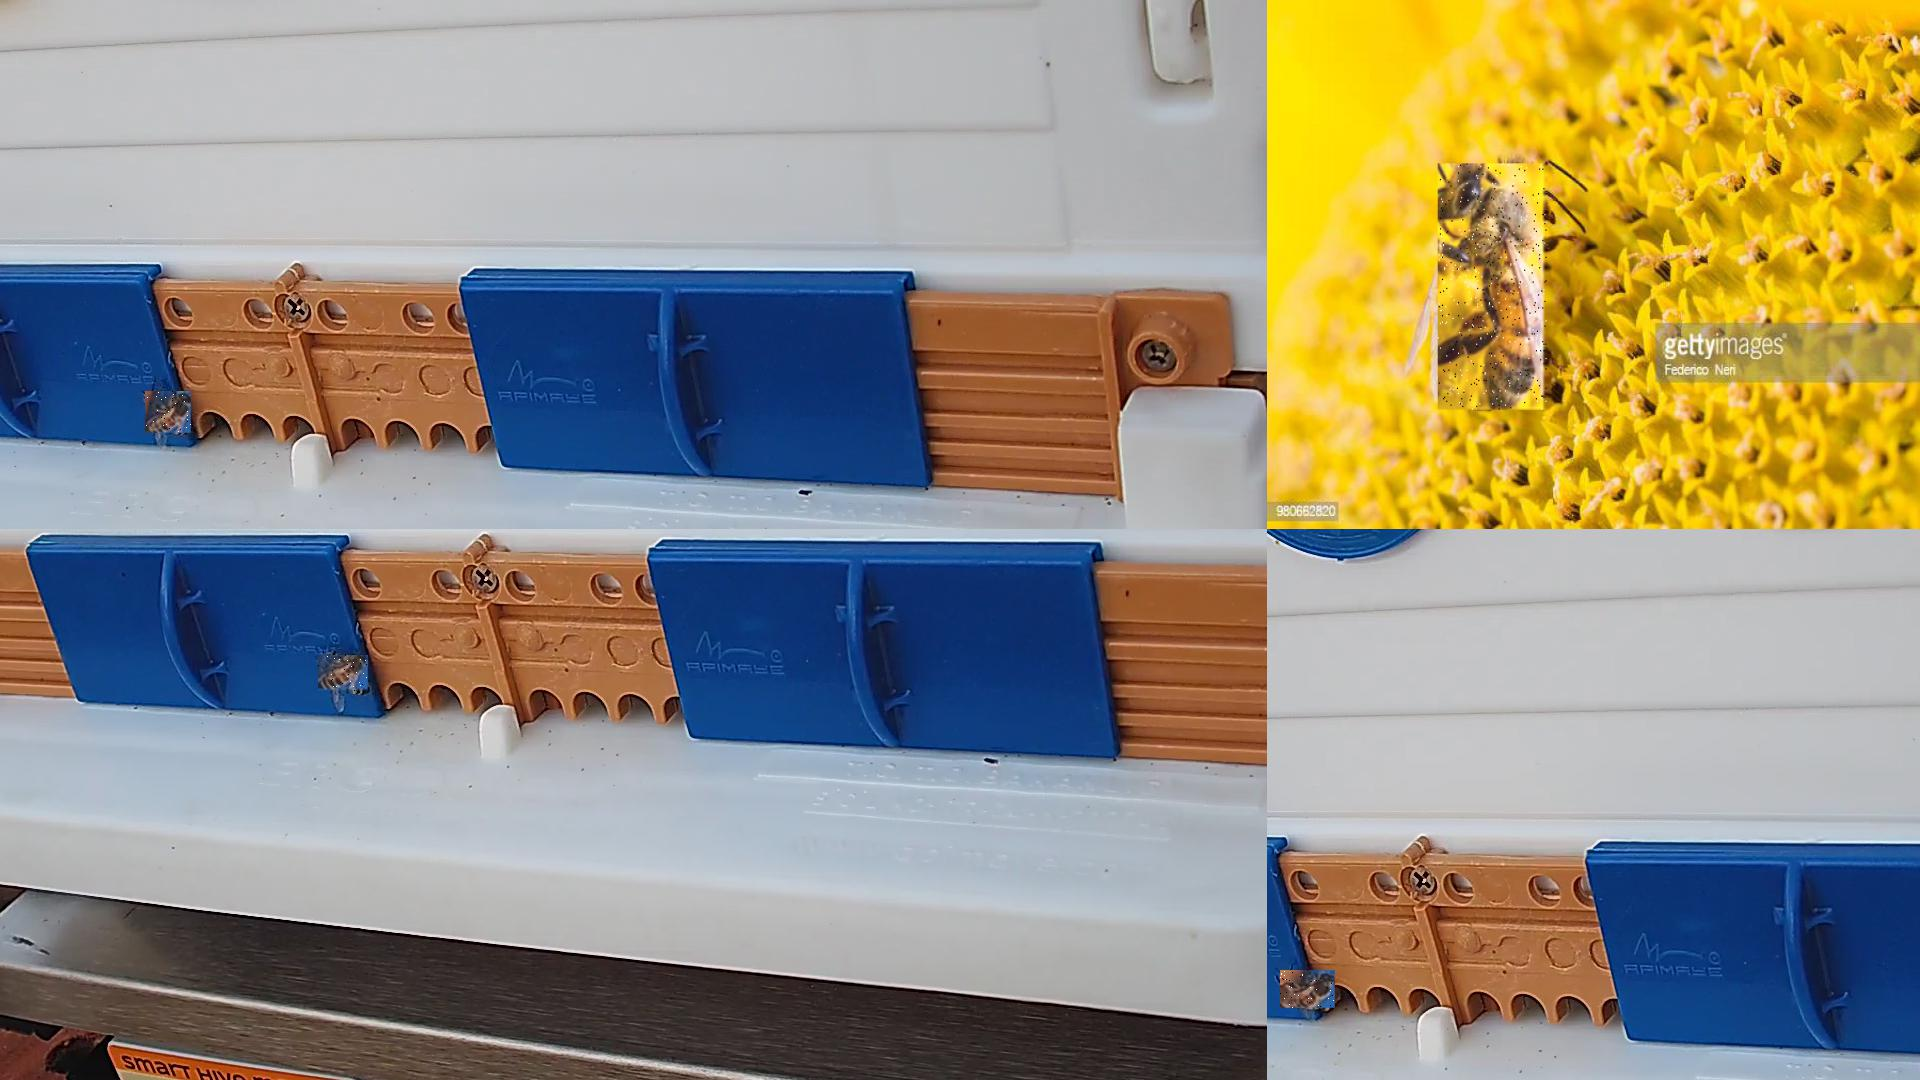bee: (1439, 164, 1548, 411), (1280, 971, 1336, 1009), (145, 392, 193, 434), (318, 655, 369, 694)
